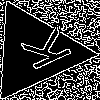K: (10, 26, 73, 77)
